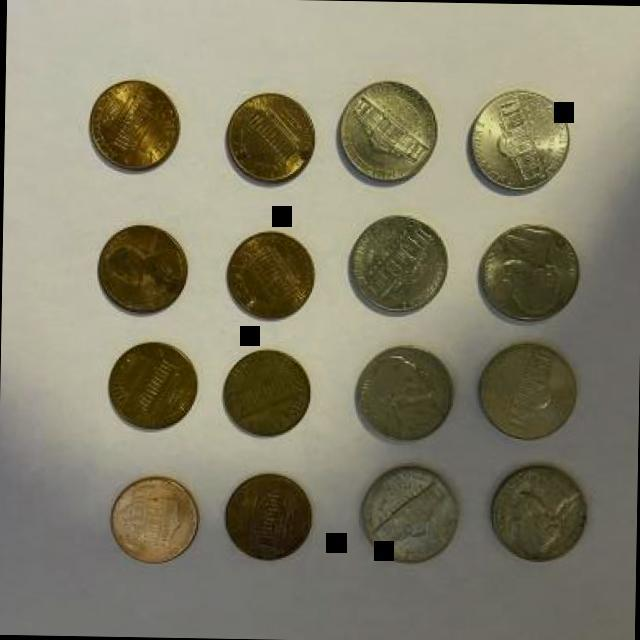Nickel: (458, 81, 572, 195), (466, 339, 584, 443), (471, 220, 588, 324), (330, 74, 438, 184), (338, 212, 452, 316), (342, 343, 452, 448), (352, 462, 462, 566), (482, 462, 592, 564)
Penny: (215, 85, 319, 189), (212, 226, 318, 326), (83, 79, 185, 178), (89, 224, 192, 318), (102, 339, 202, 433), (102, 472, 202, 566), (216, 344, 314, 438), (214, 470, 314, 562)
